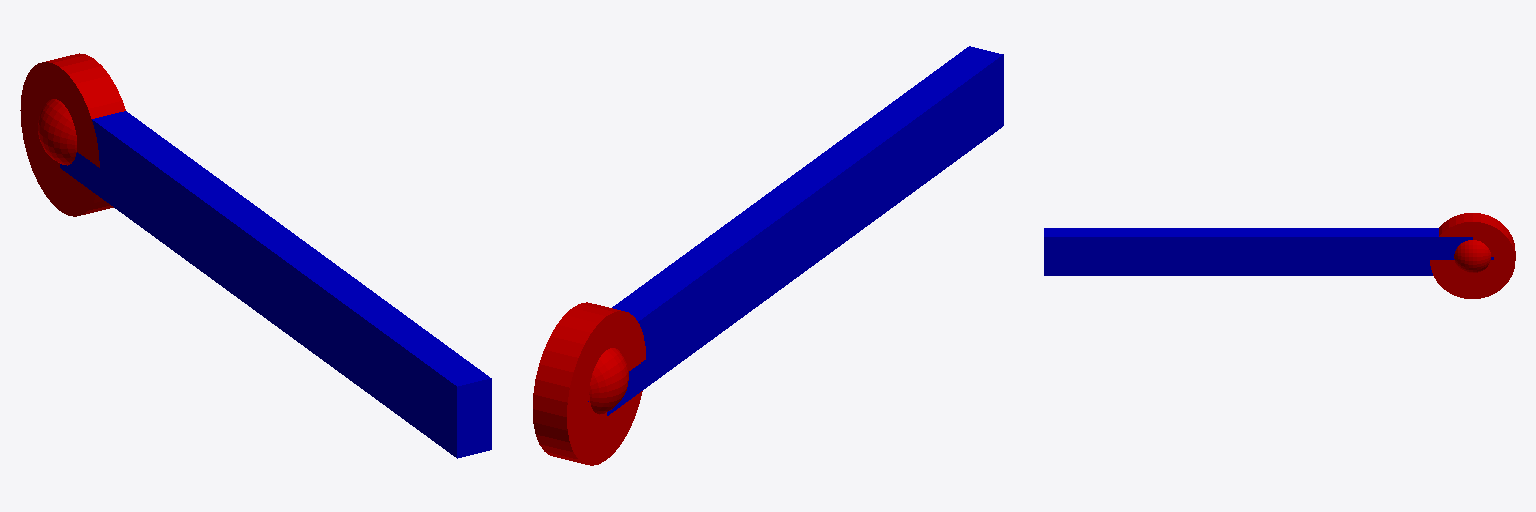
The robot description file, URDF, robot "TwoLinkStruct2205037664":
<?xml version="1.0"?>
<robot  name="TwoLinkStruct2205037664" >
 <material  name="blue" >
  <color  rgba="0 0 0.8 1.0" />
 </material>
 <material  name="red" >
  <color  rgba="0.8 0 0 1.0" />
 </material>
 <link  name="base_link" >
  <visual >
   <origin  rpy="0 1.5707 0"  xyz="0 0 0" />
   <material  name="red" />
   <geometry >
    <cylinder  length="0.05"  radius="0.1" />
   </geometry>
  </visual>
 </link>
 <joint  type="revolute"  name="joint1" >
  <parent  link="base_link" />
  <child  link="link1" />
  <origin  xyz="0 0 0"  rpy="0 0 0" />
  <axis  xyz="1 0 0" />
 </joint>
 <link  name="link1" >
  <inertial >
   <origin  rpy="0 0 0"  xyz="0 0 0.005" />
   <mass  value="0.049875802993774414" />
   <inertia  ixy="0.0"  iyy="2.0781584580739342e-05"  izz="1.0806423981984457e-05"  ixz="0.0"  ixx="1.0806423981984457e-05"  iyz="0.0" />
  </inertial>
  <visual >
   <origin  rpy="0 0 0"  xyz="0 0 0.005" />
   <material  name="blue" />
   <geometry >
    <box  size="0.05 0.1 0.01" />
   </geometry>
  </visual>
 </link>
 <joint  type="fixed"  name="joint-joint-1" >
  <parent  link="link1" />
  <child  link="joint-link-1" />
  <origin  xyz="0 0 0.01"  rpy="1.5707 0 0" />
  <axis  xyz="1 0 0" />
 </joint>
 <link  name="joint-link-1" >
  <inertial >
   <origin  rpy="0 0 0"  xyz="0 0 0" />
   <mass  value="2.65531338845959" />
   <inertia  ixy="0"  iyy="0"  izz="0"  ixz="0"  ixx="0"  iyz="0" />
  </inertial>
  <visual >
   <origin  rpy="0 0 0"  xyz="0 0 0" />
   <material  name="red" />
   <geometry >
    <sphere  radius="0.05" />
   </geometry>
  </visual>
 </link>
 <joint  type="revolute"  name="joint2" >
  <parent  link="link1" />
  <child  link="link2" />
  <origin  xyz="0 0 0.01"  rpy="1.5707 0 0" />
  <axis  xyz="1 0 0" />
 </joint>
 <link  name="link2" >
  <inertial >
   <origin  rpy="0 0 0"  xyz="0 0 0.5" />
   <mass  value="4.204433917999268" />
   <inertia  ixy="0.0"  iyy="2.0781584580739342e-05"  izz="0.004166707708438237"  ixz="0.0"  ixx="0.004166707708438237"  iyz="0.0" />
  </inertial>
  <visual >
   <origin  rpy="0 0 0"  xyz="0 0 0.5" />
   <material  name="blue" />
   <geometry >
    <box  size="0.05 0.1 1.0" />
   </geometry>
  </visual>
 </link>
 <joint  type="fixed"  name="eef_joint" >
  <parent  link="link2" />
  <child  link="eef" />
  <origin  xyz="0 0 1.0"  rpy="0 0 0" />
 </joint>
 <link  name="eef" >
  <inertial >
   <origin  rpy="0 0 0"  xyz="0 0 0" />
   <mass  value="1" />
   <inertia  ixy="0"  iyy="0"  izz="0"  ixz="0"  ixx="0"  iyz="0" />
  </inertial>
 </link>
 <transmission  name="motor1" >
  <type  xmltext="SimpleTransmission" >
   SimpleTransmission
  </type>
  <actuator  name="motor1" >
   <mechanicalreduction  xmltext="1" >
    1
   </mechanicalreduction>
  </actuator>
  <joint  name="joint1" />
 </transmission>
 <transmission  name="motor2" >
  <type  xmltext="SimpleTransmission" >
   SimpleTransmission
  </type>
  <actuator  name="motor2" >
   <mechanicalreduction  xmltext="1" >
    1
   </mechanicalreduction>
  </actuator>
  <joint  name="joint2" />
 </transmission>
</robot>

<!-- {'carti': array([-0.1 ,  0.14,  0.85]), 'cartd': array([-0.1 ,  0.32,  1.29]), 'tau_mu': 1.0, 'b0': 0.5023787588914007, 'Km': 4.357642307523097, 'k_velocity': 100.0, 'tau_max_m': 5.0, 'omega_max_m': 7082.0094816769615, 'gear_ratio': 0.1, 'Kp': 16.74046425284117, 'Kd': 100.0, 'm_m': 2.65531338845959, 'l1': 0.01, 'l2': 1.0, 'k1': 5335.213183528046, 'k2': 1000.0, 'k3': 379000000.0}-->

--- Facts derived from the render (not from the file) ---
3 views of the same robot in one strip: view 1: azimuth 30°, elevation 25°; view 2: azimuth 150°, elevation 25°; view 3: azimuth 270°, elevation 25° (orthographic).
Robot: TwoLinkStruct2205037664 — 5 links, 4 joints (2 revolute, 2 fixed); root link base_link; default pose: all joints at 0.
Visible links, largest first — view 1: link2, base_link, joint-link-1; view 2: link2, base_link, joint-link-1; view 3: link2, base_link, joint-link-1.
Boxes of the visible links, x1,y1,x2,y2 form: link2: (60, 111, 491, 458); base_link: (20, 53, 125, 216); joint-link-1: (38, 99, 76, 165); link2: (607, 46, 1003, 415); base_link: (533, 302, 645, 465); joint-link-1: (589, 348, 628, 414); link2: (1044, 228, 1472, 275); base_link: (1430, 213, 1515, 298); joint-link-1: (1454, 240, 1490, 272).
Size in the robot's own frame: 0.1 by 1.1 by 0.2 metres.
Geometry: primitives only (box / cylinder / sphere), no mesh files.
